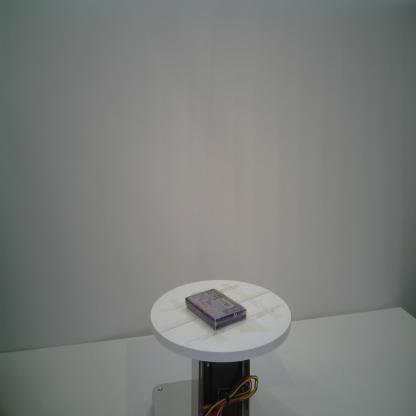Gum: (184, 286, 248, 332)
